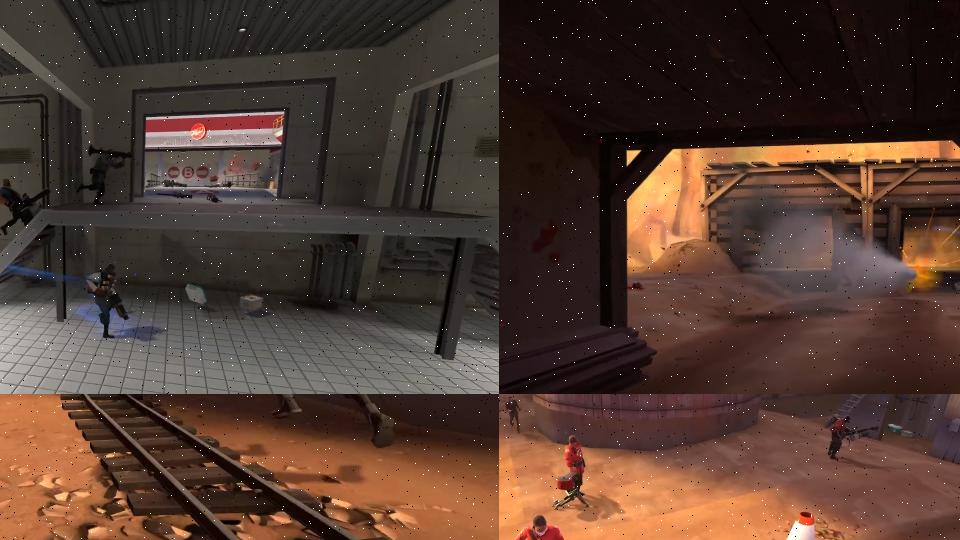Enemy: (248, 394, 397, 447), (79, 259, 138, 346), (70, 142, 136, 211), (820, 408, 884, 470), (0, 176, 50, 239), (559, 431, 592, 505), (502, 511, 577, 540), (502, 394, 527, 438)
